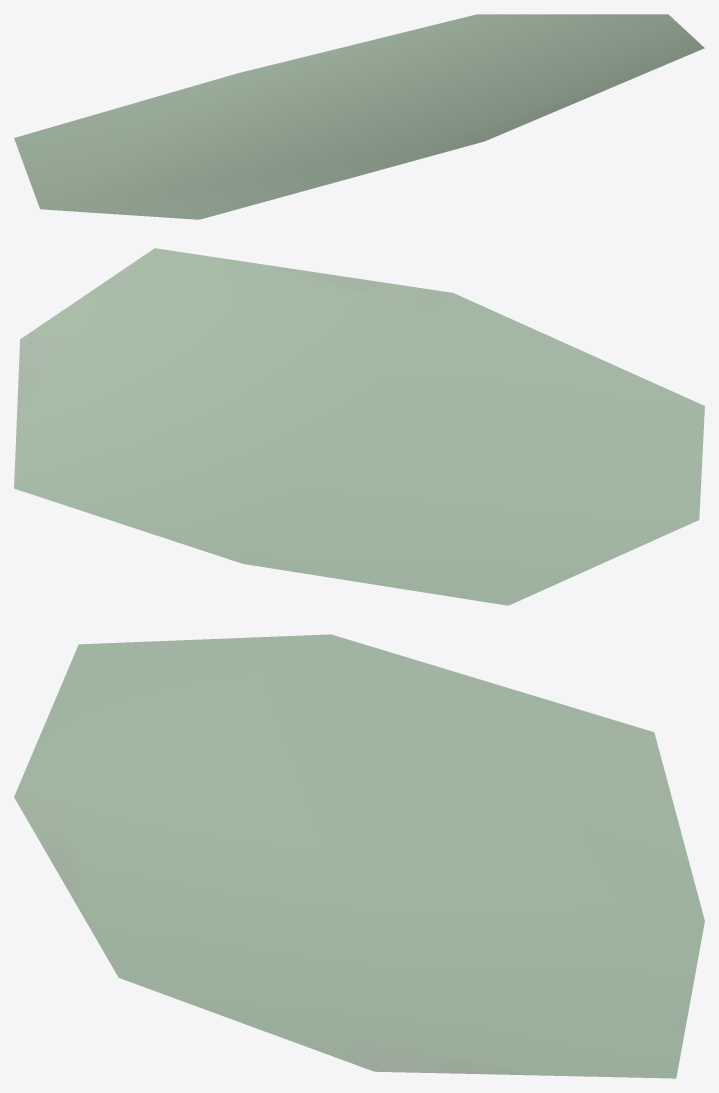
The model's file is TROLLHOLE02_HOLECAP25.fbx.
3 views of the same model, one above another, from view 1: azimuth 30°, elevation 25°; view 2: azimuth 150°, elevation 25°; view 3: azimuth 270°, elevation 25° (orthographic). The views are drawn at different scales.
Parts seen in each view (by area): view 1: TROLLHOLE02_HOLECAP25; view 2: TROLLHOLE02_HOLECAP25; view 3: TROLLHOLE02_HOLECAP25.
Part boxes in pixels (x1,y1,x2,y2): TROLLHOLE02_HOLECAP25: (14,14,704,219); TROLLHOLE02_HOLECAP25: (14,248,704,605); TROLLHOLE02_HOLECAP25: (14,634,704,1078).
Bounding box in the file's own units: 30958 × 4502 × 18815.
1 material, 1 textured.
